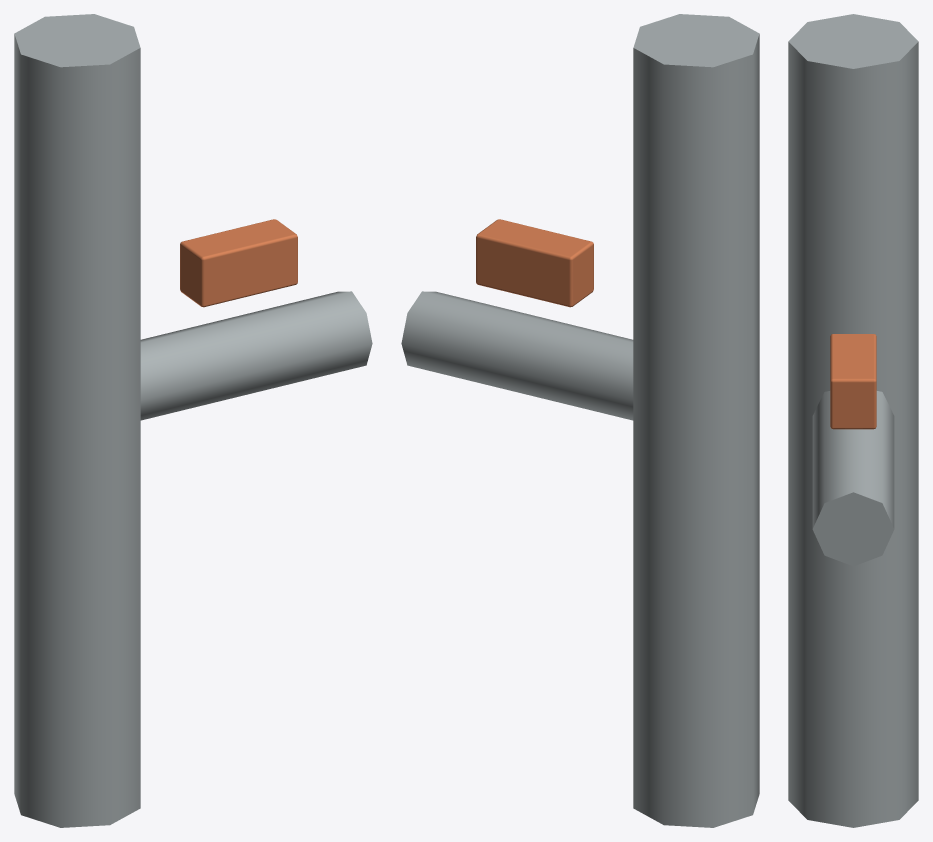
The model's file is water-collection-and-purification-downpipe-diverter-07f7227c__20204.glb.
The picture shows the model from 3 angles, left to right: view 1: azimuth 30°, elevation 25°; view 2: azimuth 150°, elevation 25°; view 3: azimuth 270°, elevation 25°; orthographic projection.
Visible parts, largest first — view 1: downpipe-diverter, lever/signal; view 2: downpipe-diverter, lever/signal; view 3: downpipe-diverter, lever/signal.
Boxes of the visible parts, left/top/right/bottom form: downpipe-diverter: left=14, top=14, right=372, bottom=827; lever/signal: left=180, top=219, right=297, bottom=307; downpipe-diverter: left=401, top=14, right=759, bottom=827; lever/signal: left=476, top=219, right=593, bottom=307; downpipe-diverter: left=788, top=14, right=918, bottom=827; lever/signal: left=830, top=334, right=876, bottom=429.
Size of the model in its own units: 0.205 by 0.45 by 0.07.
